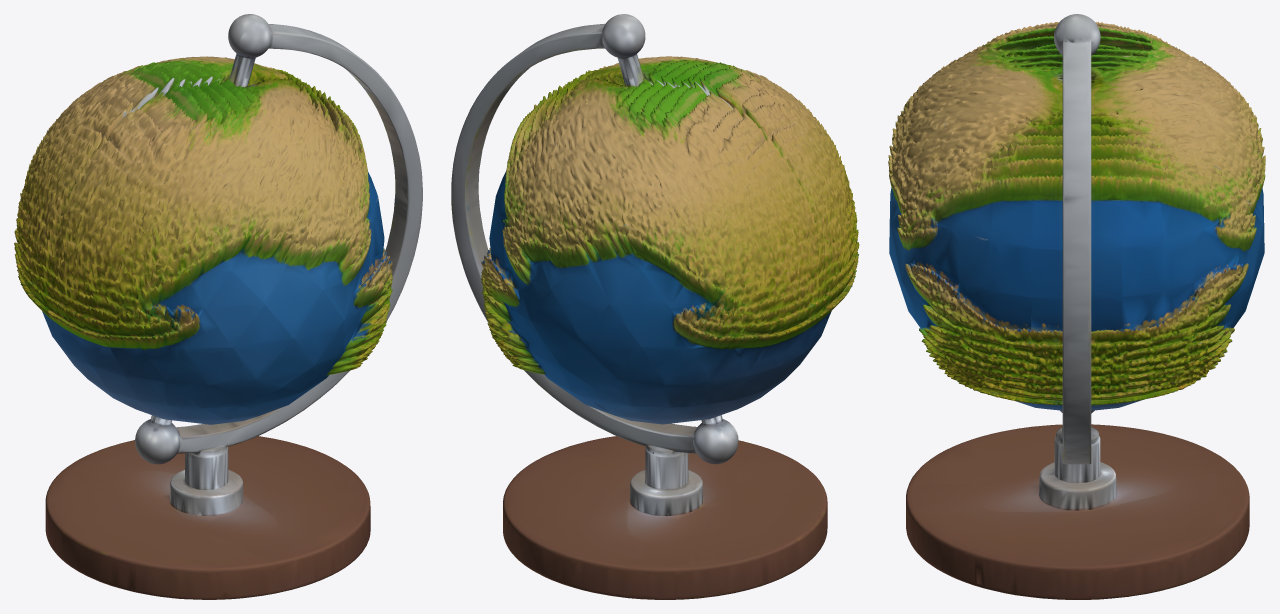
The model's file is award-11.glb.
3 renders of one model, left to right at view 1: azimuth 30°, elevation 25°; view 2: azimuth 150°, elevation 25°; view 3: azimuth 270°, elevation 25°, orthographic. The views are drawn at different scales.
Parts seen in each view (by area): view 1: node_0; view 2: node_0; view 3: node_0.
Boxes of the visible parts, x1=… form: node_0: x1=14, y1=14, x2=422, y2=599; node_0: x1=451, y1=14, x2=859, y2=599; node_0: x1=888, y1=14, x2=1265, y2=599.
Size of the model in its own units: 0.7764 by 1 by 0.6425.
Materials: 1 (1 with a texture image).
